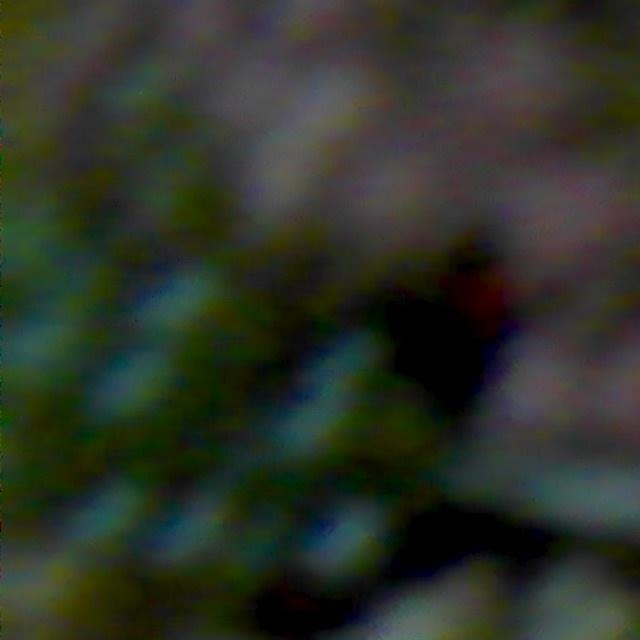SeaGrape: (508, 178, 618, 297), (489, 340, 584, 454), (310, 500, 387, 578), (147, 263, 226, 336), (99, 345, 176, 418)
